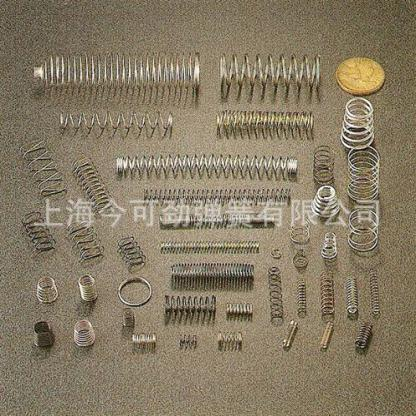FOD: (29, 47, 202, 89), (113, 152, 301, 182), (215, 51, 325, 90), (54, 107, 175, 136), (211, 107, 316, 136), (17, 138, 66, 198), (167, 260, 257, 291), (71, 153, 113, 213), (344, 146, 383, 203), (337, 98, 377, 152), (344, 208, 384, 254), (66, 220, 106, 266), (160, 295, 218, 325), (20, 208, 57, 255), (156, 240, 263, 256), (112, 233, 146, 273), (310, 144, 338, 186), (309, 186, 343, 220), (267, 264, 285, 325), (29, 317, 57, 351), (319, 268, 335, 324), (366, 266, 382, 318), (318, 229, 341, 262), (353, 318, 374, 354), (76, 272, 98, 305), (35, 275, 60, 304), (72, 318, 96, 348), (224, 300, 256, 322), (343, 272, 358, 318), (214, 329, 245, 351), (130, 329, 159, 351), (288, 222, 314, 245), (318, 318, 334, 353), (282, 318, 298, 352), (295, 278, 308, 316), (176, 331, 199, 348), (119, 307, 136, 328)
